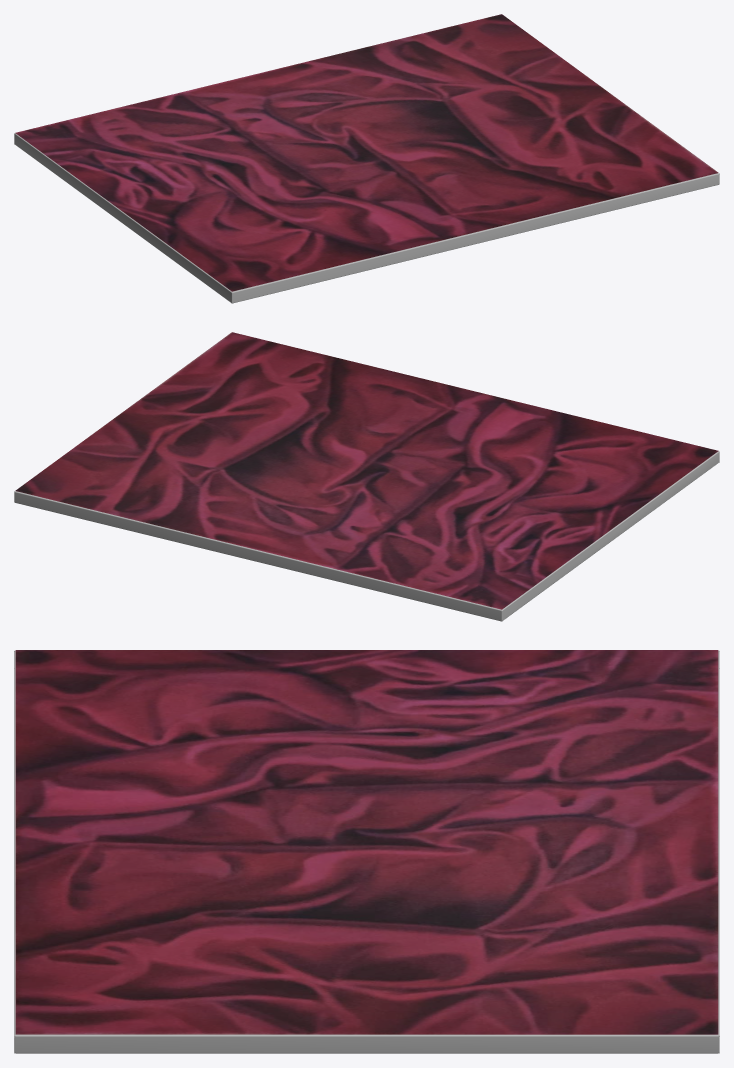
File: crimson.glb
3 views of the same model, one above another, from view 1: azimuth 30°, elevation 25°; view 2: azimuth 150°, elevation 25°; view 3: azimuth 270°, elevation 25° (orthographic). The views are drawn at different scales.
Visible parts, largest first — view 1: crimson; view 2: crimson; view 3: crimson.
Boxes of the visible parts, x1,y1,x2,y2 form: crimson: (14, 14, 719, 303); crimson: (14, 332, 719, 621); crimson: (14, 650, 719, 1053).
Size of the model in its own units: 0.5015 by 0.0117 by 0.388.
2 materials, 1 textured.
